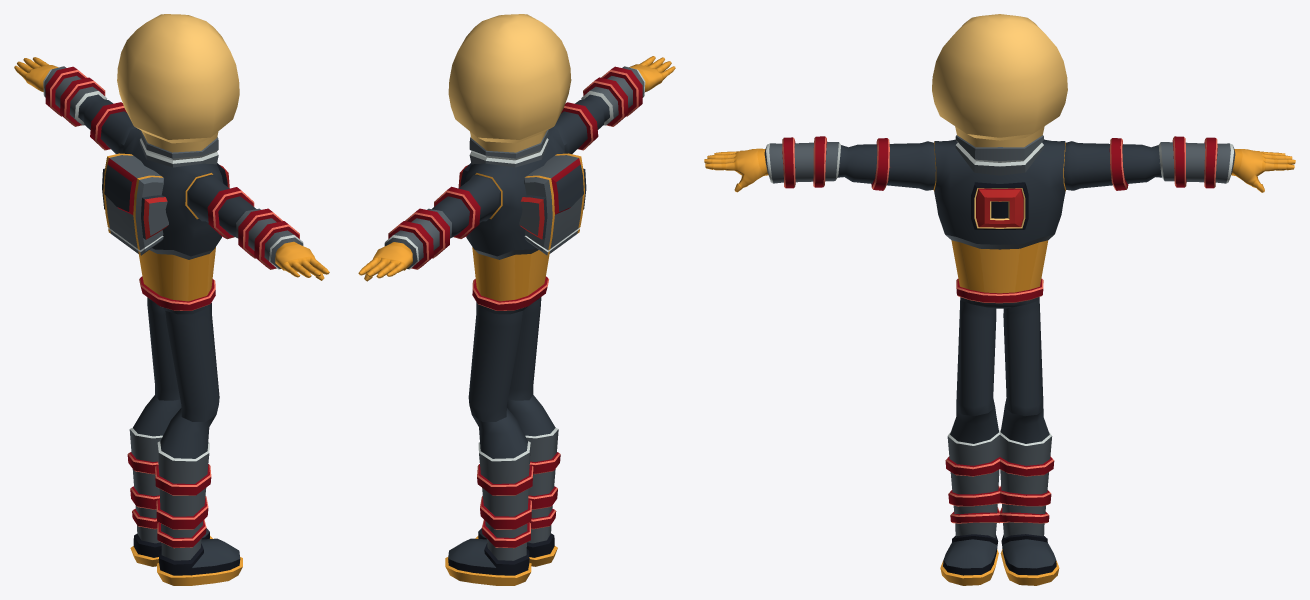
The model's file is Astronaut.glb.
The picture shows the model from 3 angles, left to right: view 1: azimuth 30°, elevation 25°; view 2: azimuth 150°, elevation 25°; view 3: azimuth 270°, elevation 25°; orthographic projection.
Visible parts, largest first — view 1: _100Avatars_111_SquareCosmonaut; view 2: _100Avatars_111_SquareCosmonaut; view 3: _100Avatars_111_SquareCosmonaut.
Part boxes in pixels (bbox=[...]): _100Avatars_111_SquareCosmonaut: bbox=[14, 14, 329, 585]; _100Avatars_111_SquareCosmonaut: bbox=[358, 14, 675, 585]; _100Avatars_111_SquareCosmonaut: bbox=[704, 14, 1295, 585].
Size of the model in its own units: 1.04 by 4.78 by 4.69.
Materials: 1 (1 with a texture image).
